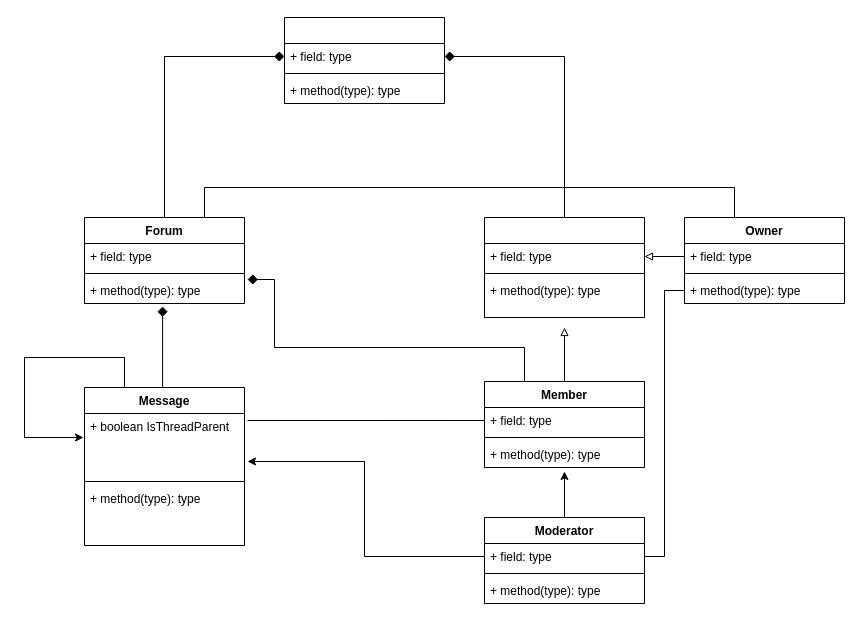
The diagram is 862 pixels wide and 624 high, and some of its shapes have lost their labels. Here are the shapes that lost their labels. From the top down, the box of each, then its label:
(284, 16, 444, 104): Website
(484, 216, 644, 318): User
